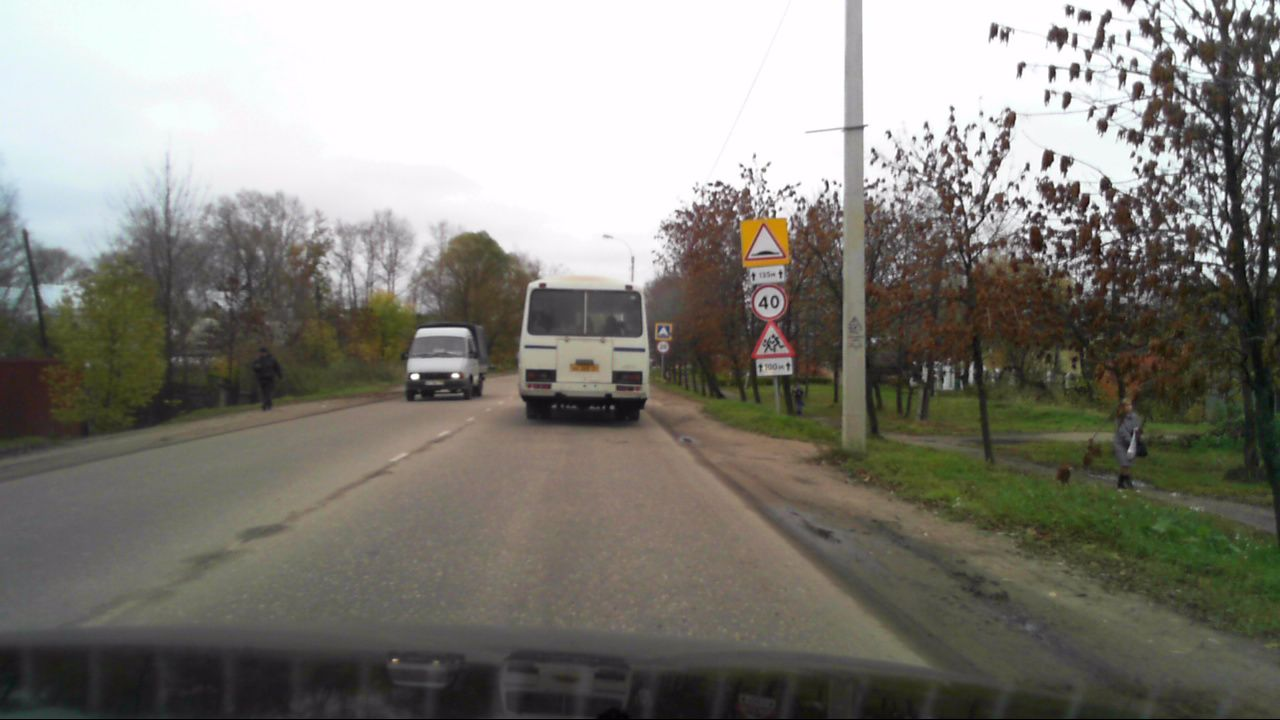speed_warning_40: (751, 283, 787, 321)
